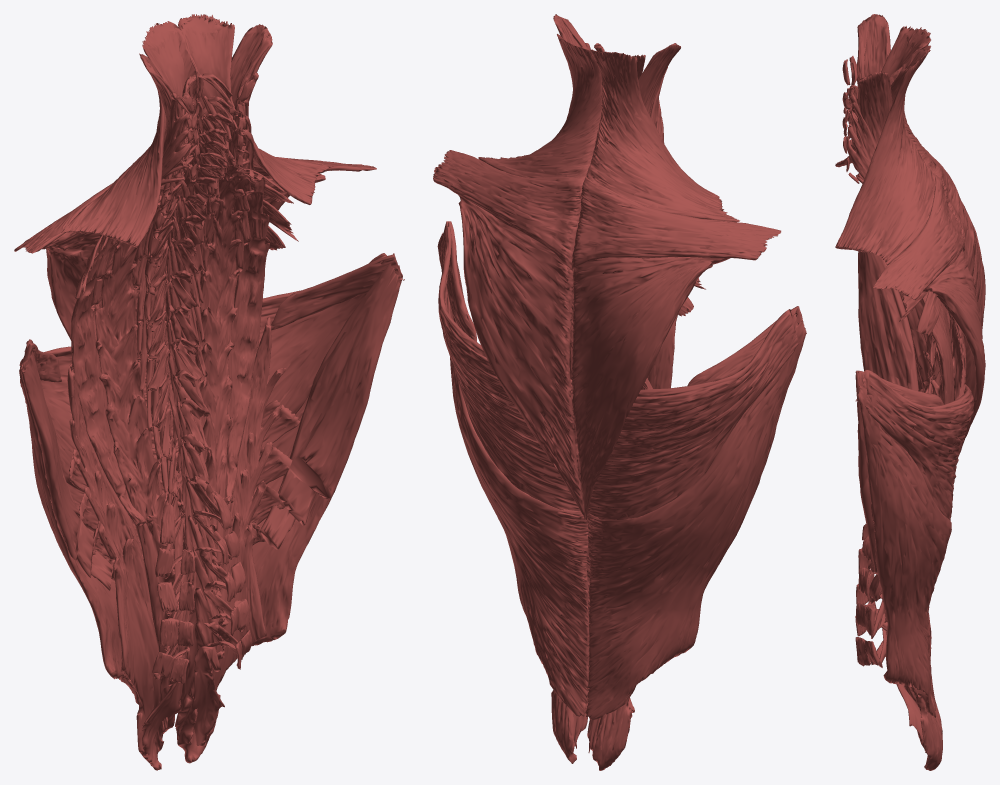
The model's file is back.glb.
3 views of the same model, side by side, from view 1: azimuth 30°, elevation 25°; view 2: azimuth 150°, elevation 25°; view 3: azimuth 270°, elevation 25° (orthographic). The views are drawn at different scales.
Visible parts, largest first — view 1: FMA13359, FMA13358, FMA22751, FMA22753, FMA22740, FMA23083, FMA22741, FMA22879, FMA33586, FMA22743, FMA22742, FMA22878 (+23 smaller); view 2: FMA13358, FMA13359, FMA33583, FMA33581, FMA33586, FMA33584, FMA33585, FMA33587, FMA22740, FMA22728, FMA22741, FMA22742; view 3: FMA13359, FMA33587, FMA13358, FMA33585, FMA33583, FMA22729, FMA76775, FMA22728, FMA33581, FMA32541, FMA22743, FMA22741 (+14 smaller).
Boxes of the visible parts, x1=… form: FMA13359: x1=166, y1=253, x2=404, y2=646; FMA13358: x1=19, y1=339, x2=167, y2=704; FMA22751: x1=95, y1=186, x2=181, y2=739; FMA22753: x1=175, y1=165, x2=254, y2=742; FMA22740: x1=67, y1=365, x2=167, y2=770; FMA23083: x1=146, y1=163, x2=224, y2=498; FMA22741: x1=177, y1=317, x2=286, y2=763; FMA22879: x1=169, y1=96, x2=229, y2=746; FMA33586: x1=61, y1=21, x2=199, y2=247; FMA22743: x1=225, y1=174, x2=269, y2=504; FMA22742: x1=71, y1=201, x2=160, y2=526; FMA22878: x1=141, y1=99, x2=196, y2=769; FMA13358: x1=585, y1=306, x2=806, y2=719; FMA13359: x1=437, y1=221, x2=589, y2=716; FMA33583: x1=458, y1=195, x2=586, y2=519; FMA33581: x1=571, y1=257, x2=730, y2=519; FMA33586: x1=586, y1=49, x2=739, y2=222; FMA33584: x1=571, y1=176, x2=781, y2=270; FMA33585: x1=433, y1=150, x2=585, y2=270; FMA33587: x1=478, y1=37, x2=602, y2=177; FMA22740: x1=592, y1=685, x2=636, y2=770; FMA22728: x1=638, y1=43, x2=680, y2=115; FMA22741: x1=551, y1=690, x2=576, y2=763; FMA22742: x1=641, y1=314, x2=677, y2=389; FMA13359: x1=855, y1=370, x2=973, y2=717; FMA33587: x1=835, y1=45, x2=935, y2=264; FMA13358: x1=858, y1=251, x2=954, y2=711; FMA33585: x1=873, y1=173, x2=964, y2=300; FMA33583: x1=922, y1=249, x2=985, y2=454; FMA22729: x1=857, y1=72, x2=892, y2=146; FMA76775: x1=855, y1=524, x2=872, y2=666; FMA22728: x1=857, y1=14, x2=890, y2=76; FMA33581: x1=961, y1=200, x2=985, y2=331; FMA32541: x1=846, y1=102, x2=876, y2=179; FMA22743: x1=921, y1=291, x2=953, y2=404; FMA22741: x1=909, y1=686, x2=942, y2=770.
Bounding box in the file's own units: 0.3583 × 0.6694 × 0.1264.
